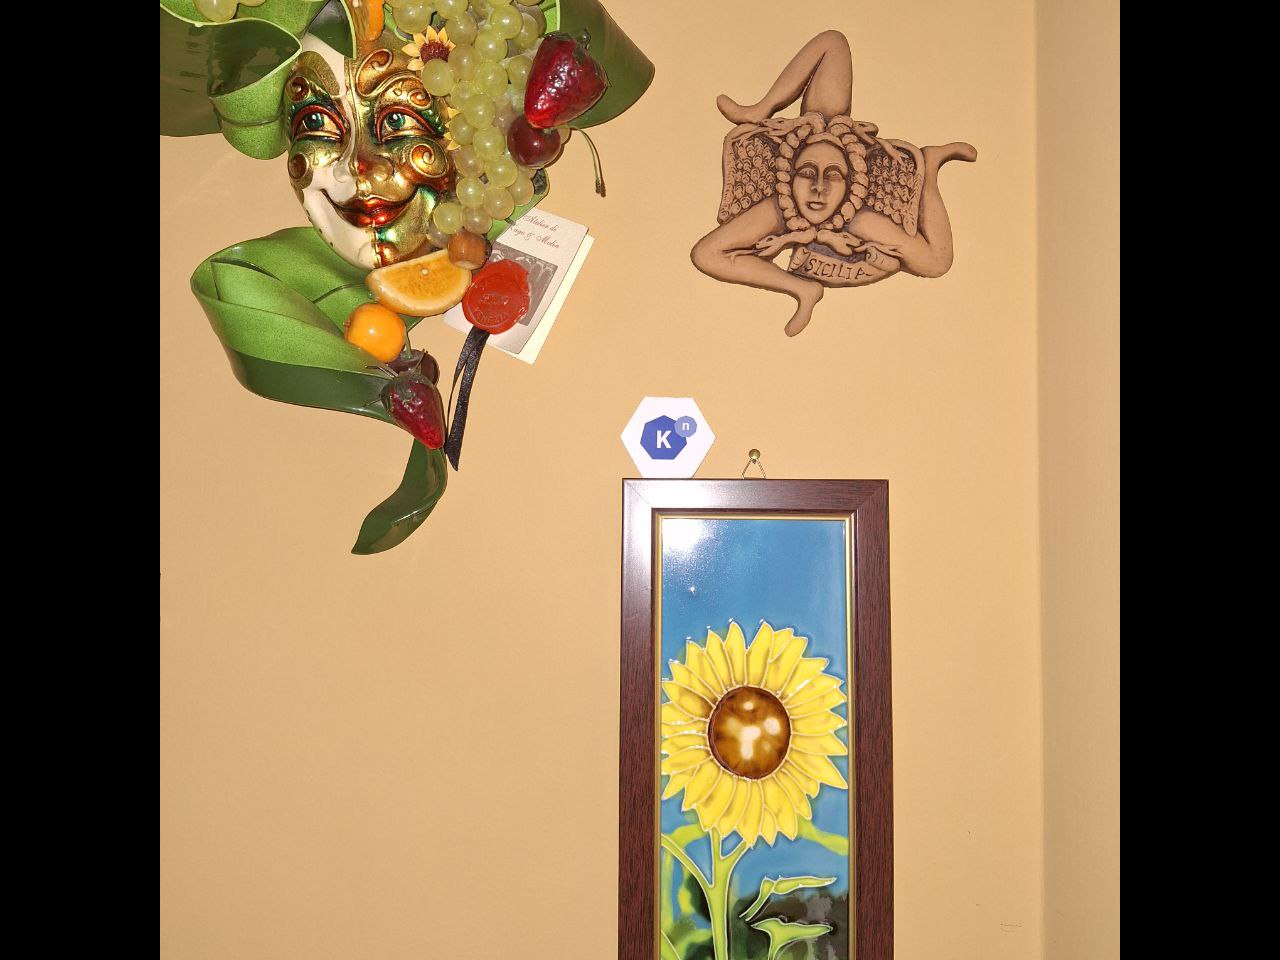knative: (641, 413, 694, 461)
